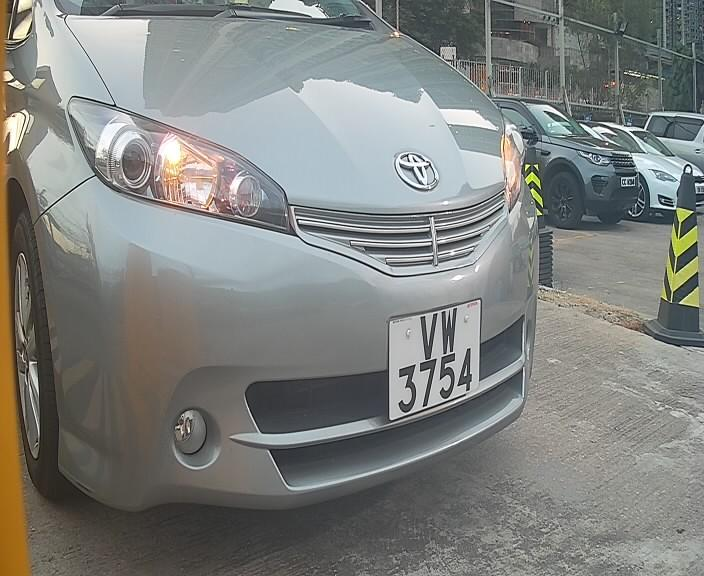License Plate: (381, 294, 488, 433)
